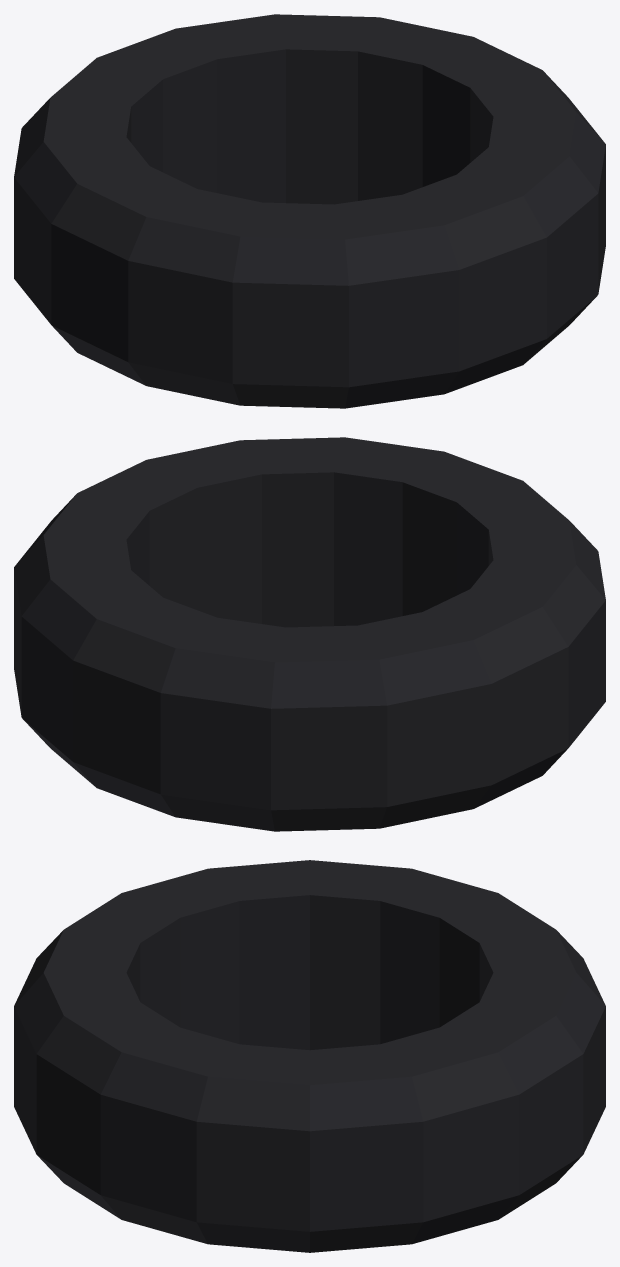
File: Tire.fbx
3 renders of one model, top to bottom at view 1: azimuth 30°, elevation 25°; view 2: azimuth 150°, elevation 25°; view 3: azimuth 270°, elevation 25°, orthographic.
Visible parts, largest first — view 1: Tire; view 2: Tire; view 3: Tire.
Boxes of the visible parts, x1,y1,x2,y2 form: Tire: (14, 14, 605, 408); Tire: (14, 437, 605, 831); Tire: (14, 860, 605, 1252).
Size of the model in its own units: 0.64 by 0.2 by 0.64.
1 material, 1 textured.
